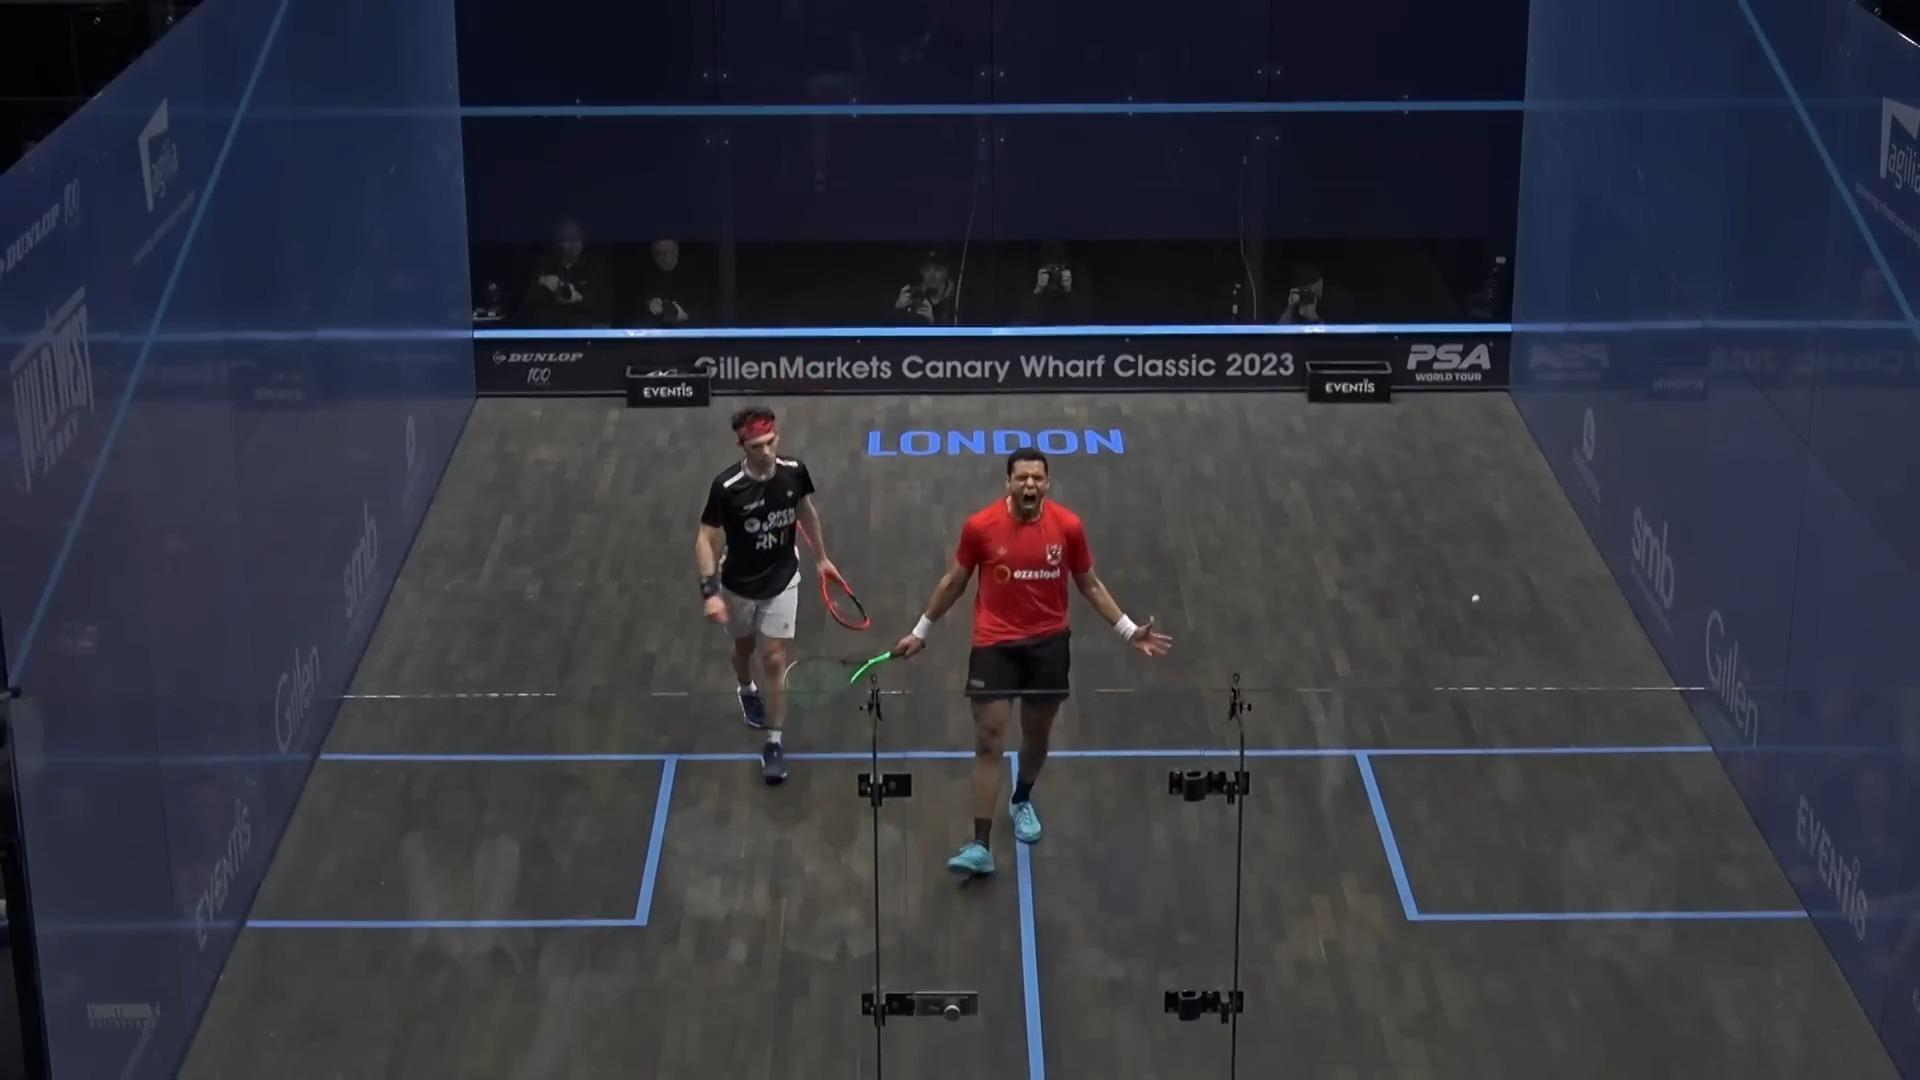Racket: (771, 644, 902, 721), (810, 549, 878, 632)
